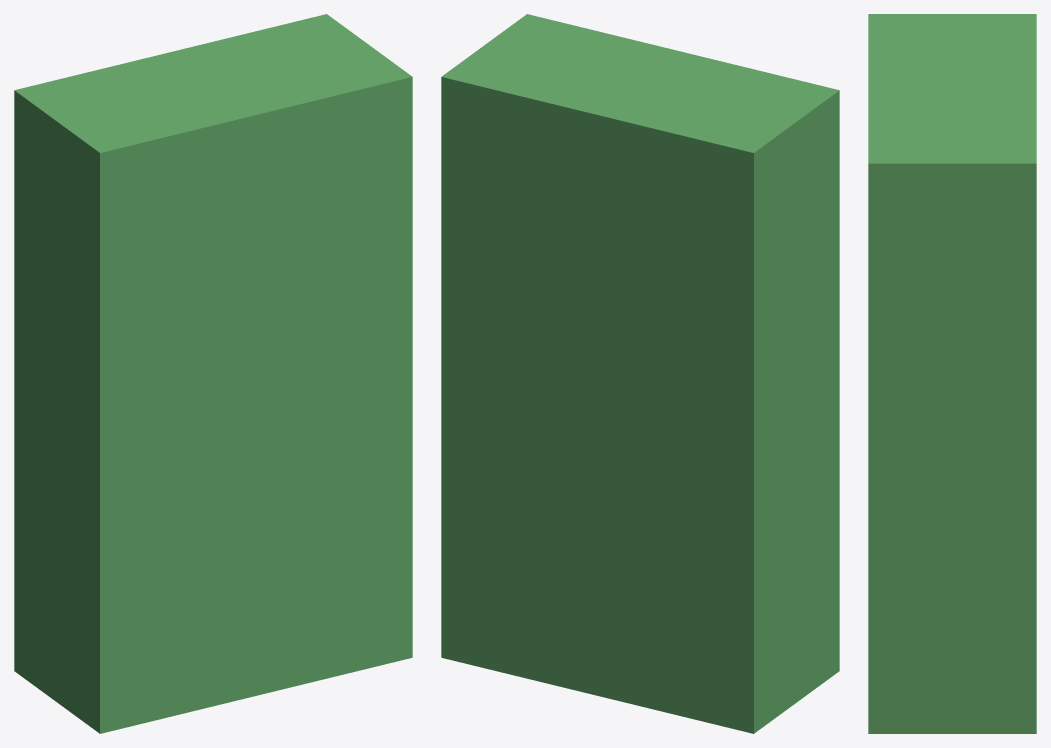
File: i104stat.gltf
3 renders of one model, left to right at view 1: azimuth 30°, elevation 25°; view 2: azimuth 150°, elevation 25°; view 3: azimuth 270°, elevation 25°, orthographic.
Parts seen in each view (by area): view 1: i104stat; view 2: i104stat; view 3: i104stat.
Part boxes in pixels (x1,y1,x2,y2): i104stat: [14, 14, 412, 733]; i104stat: [441, 14, 839, 733]; i104stat: [868, 14, 1036, 733].
Bounding box in the file's own units: 0.0421 × 0.0747 × 0.02.
